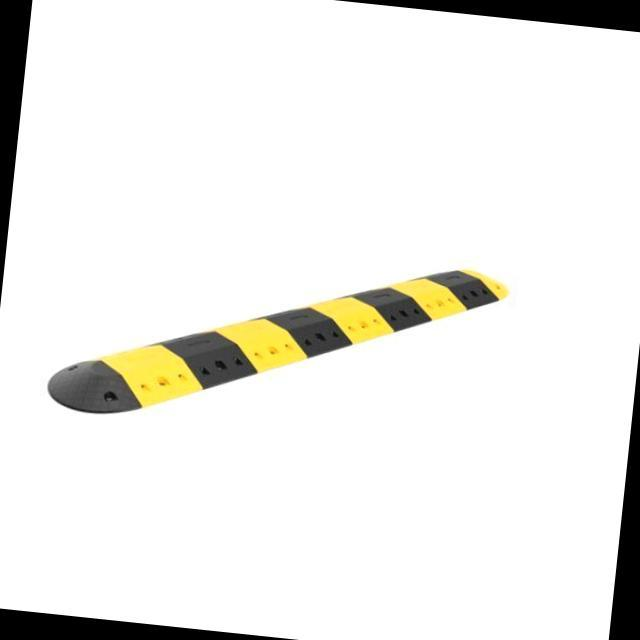speedbreaker: (41, 207, 512, 483)
